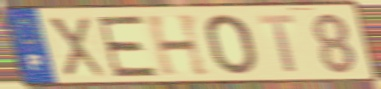8: (311, 11, 359, 75)
E: (95, 13, 161, 79)
H: (144, 12, 214, 78)
O: (203, 12, 260, 77)
T: (255, 13, 299, 74)
X: (44, 15, 108, 78)
